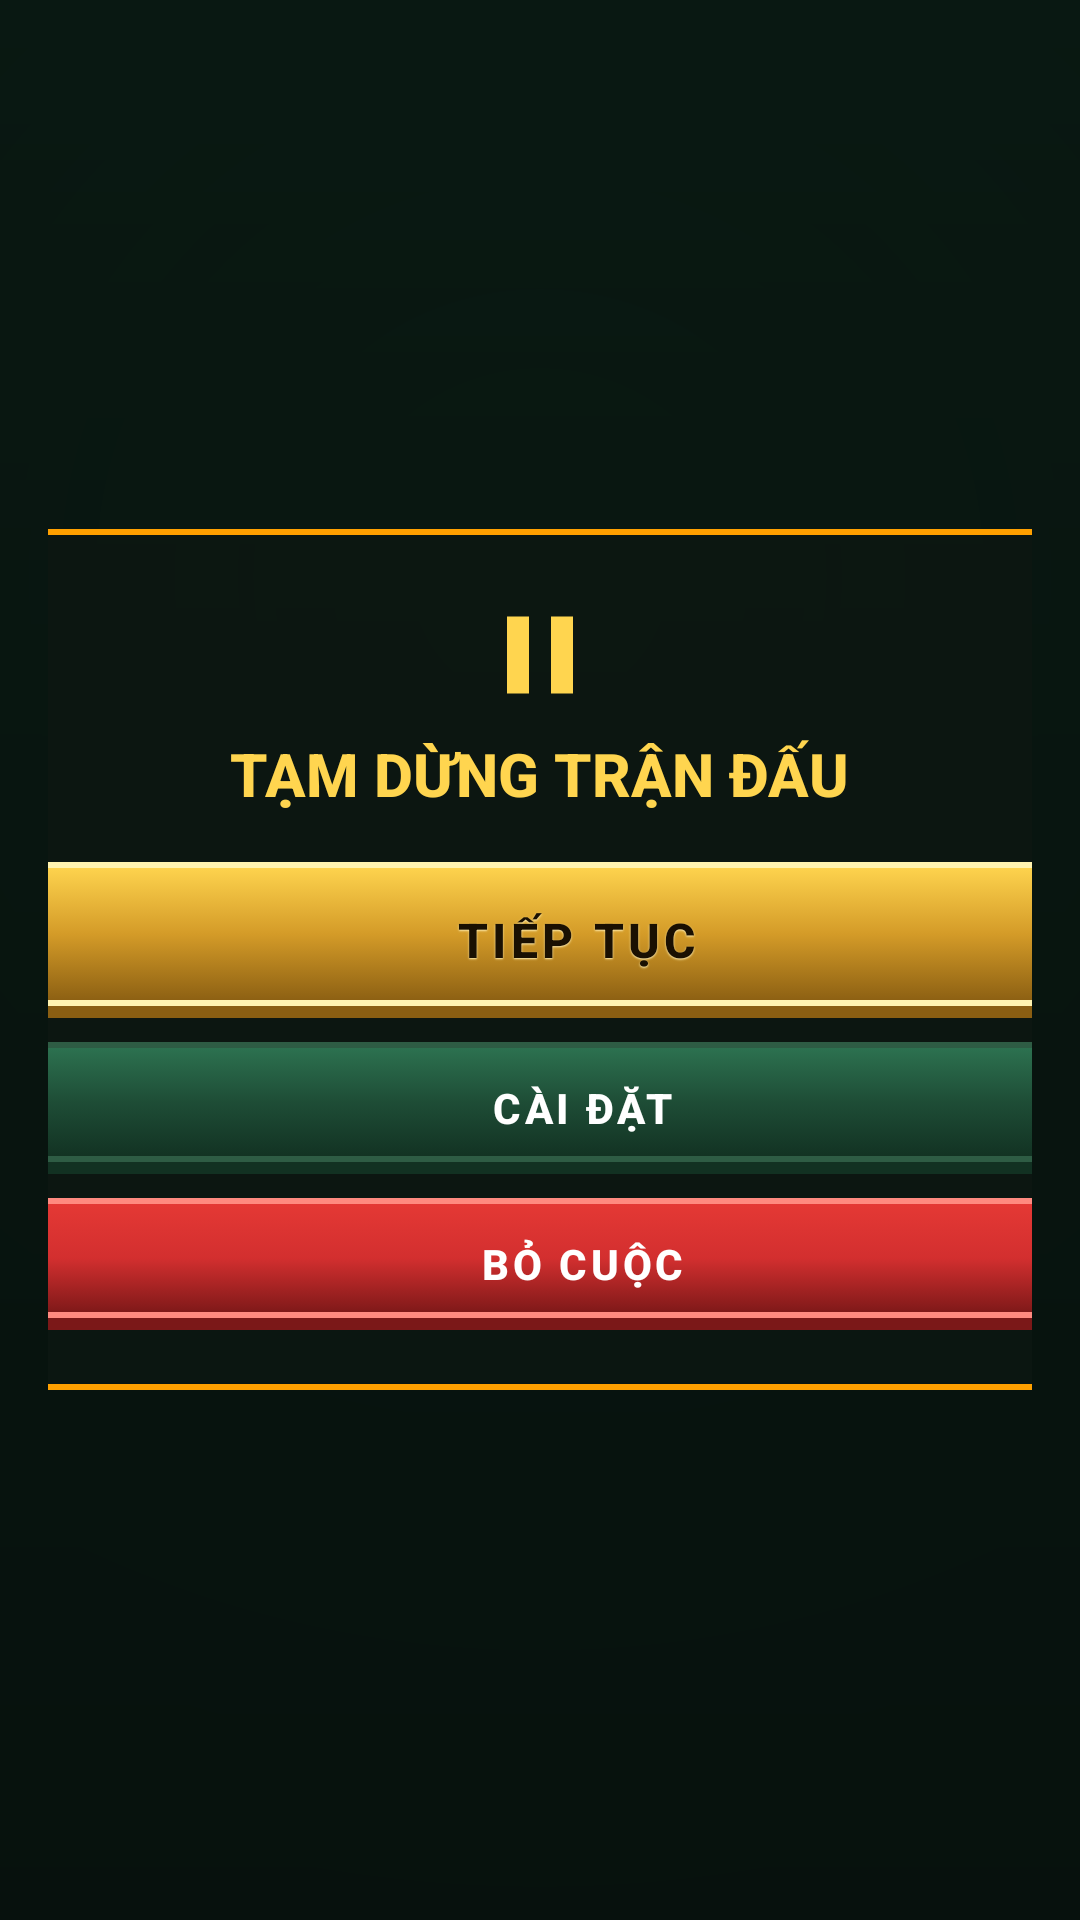

Locate icon controls on the screen. Image size 1080 × 1920, boxes as (x1, y1, x2, y2).
pause: (507, 616, 573, 694)
